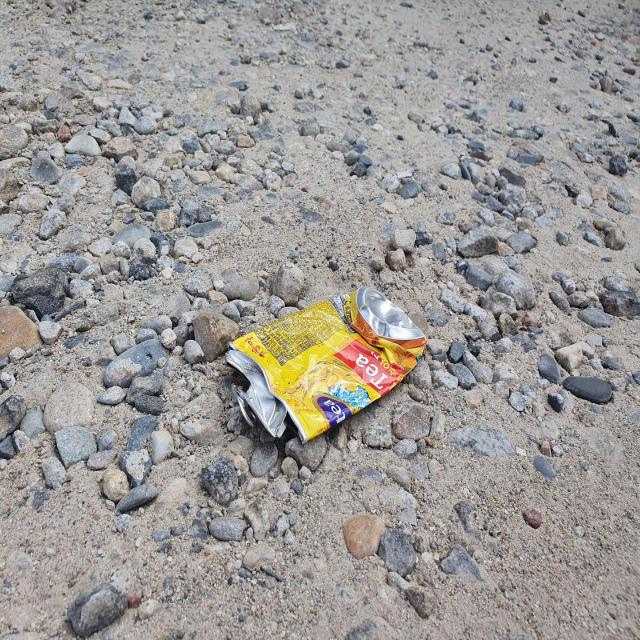can: (226, 287, 427, 446)
